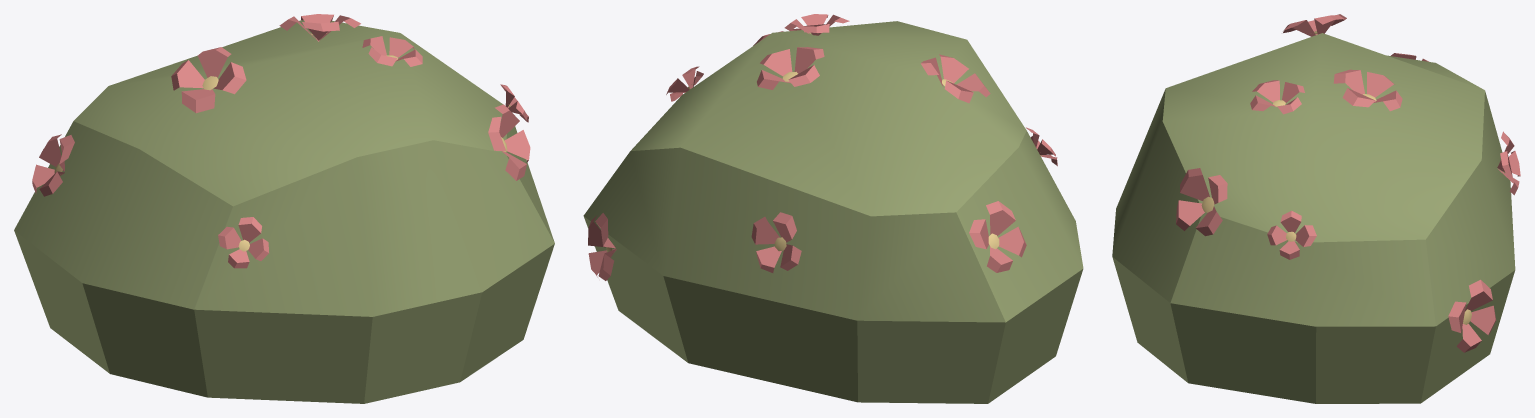
Rendered from largeRedFlower.fbx.
The picture shows the model from 3 angles, left to right: view 1: azimuth 30°, elevation 25°; view 2: azimuth 150°, elevation 25°; view 3: azimuth 270°, elevation 25°; orthographic projection. The views are drawn at different scales.
Visible parts, largest first — view 1: largeBush01, flowerPetals01 (×6); view 2: largeBush01, flowerPetals01 (×7); view 3: largeBush01, flowerPetals01 (×7).
Boxes of the visible parts, x1,y1,x2,y2 form: largeBush01: (14,20,554,403); flowerPetals01 (×6): (32,14,530,268); largeBush01: (583,21,1083,403); flowerPetals01 (×7): (588,14,1026,280); largeBush01: (1112,33,1515,403); flowerPetals01 (×7): (1176,14,1520,352).
Bounding box in the file's own units: 1.27 × 0.7806 × 1.09.
